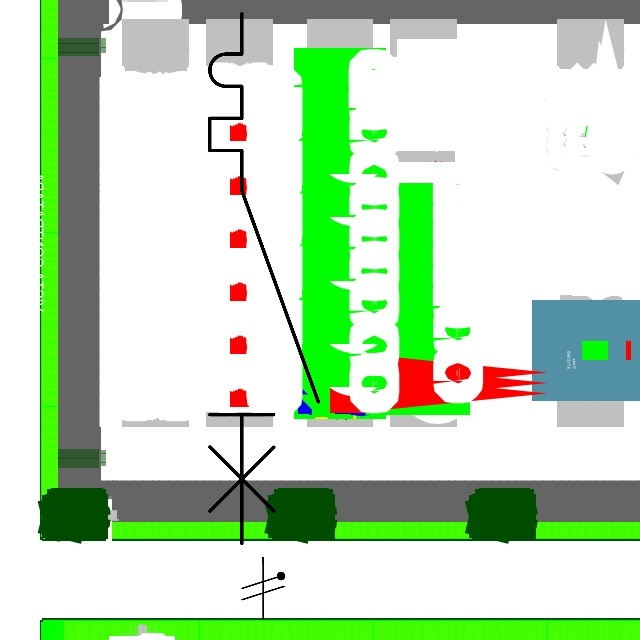interruptor_termomagnetico: (196, 0, 332, 557)
